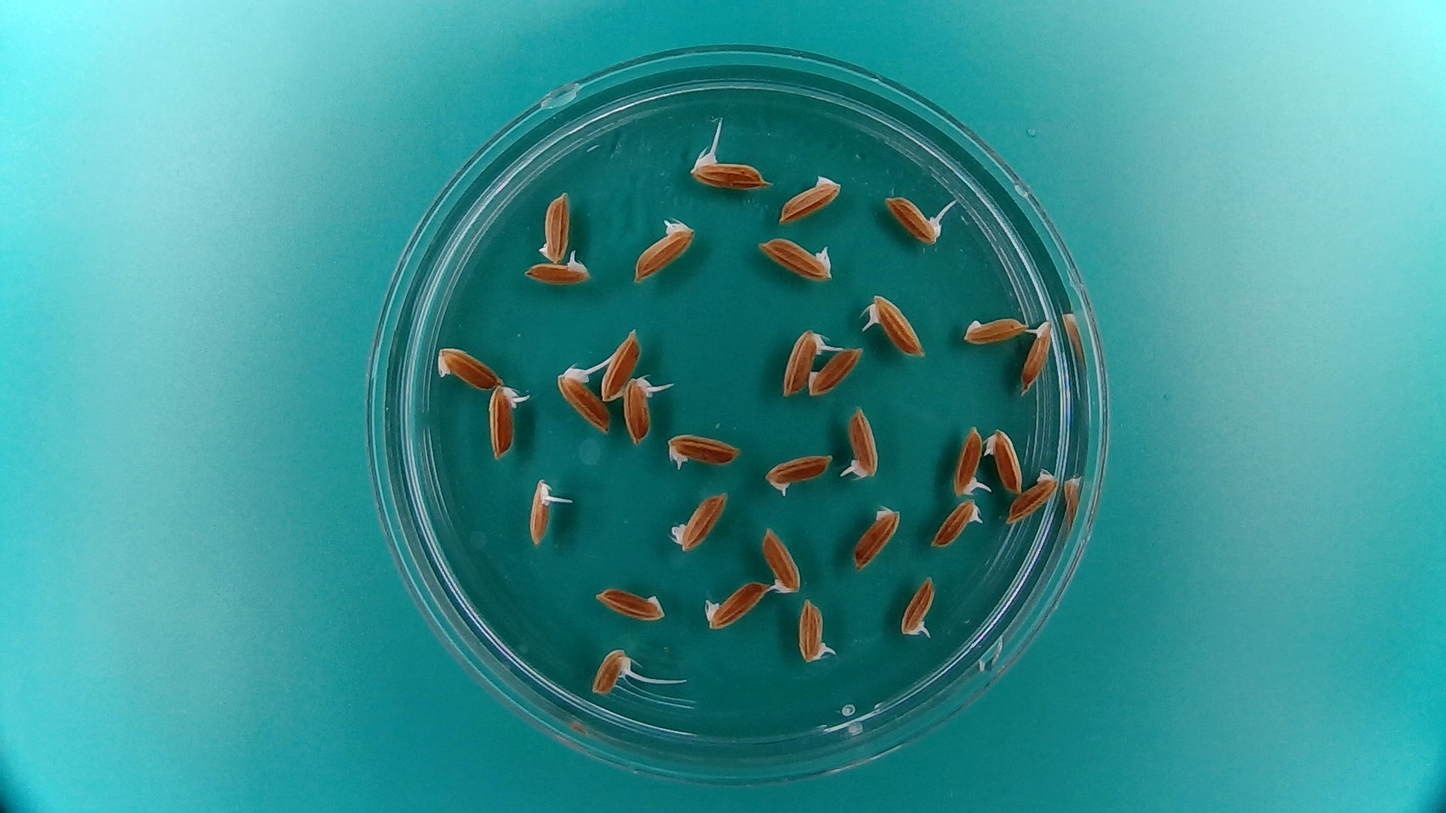no: (667, 487, 731, 553), (755, 234, 837, 284), (774, 169, 844, 227), (850, 499, 904, 574), (703, 577, 770, 632), (432, 343, 504, 392), (760, 520, 807, 595), (805, 343, 866, 398), (599, 327, 641, 403), (1006, 467, 1061, 525), (590, 584, 669, 624), (959, 312, 1032, 348), (987, 425, 1024, 496), (541, 193, 572, 267)
yes: (867, 293, 929, 360), (778, 322, 830, 399), (558, 370, 615, 437), (633, 223, 697, 282), (663, 429, 744, 473), (883, 197, 952, 247), (949, 422, 990, 499), (1017, 316, 1057, 394), (929, 497, 985, 551), (840, 405, 878, 482), (762, 454, 831, 495), (521, 251, 595, 287), (687, 155, 767, 188), (623, 371, 657, 446), (898, 579, 938, 641), (485, 381, 518, 456), (797, 599, 832, 666), (589, 649, 637, 696), (528, 473, 555, 547)
